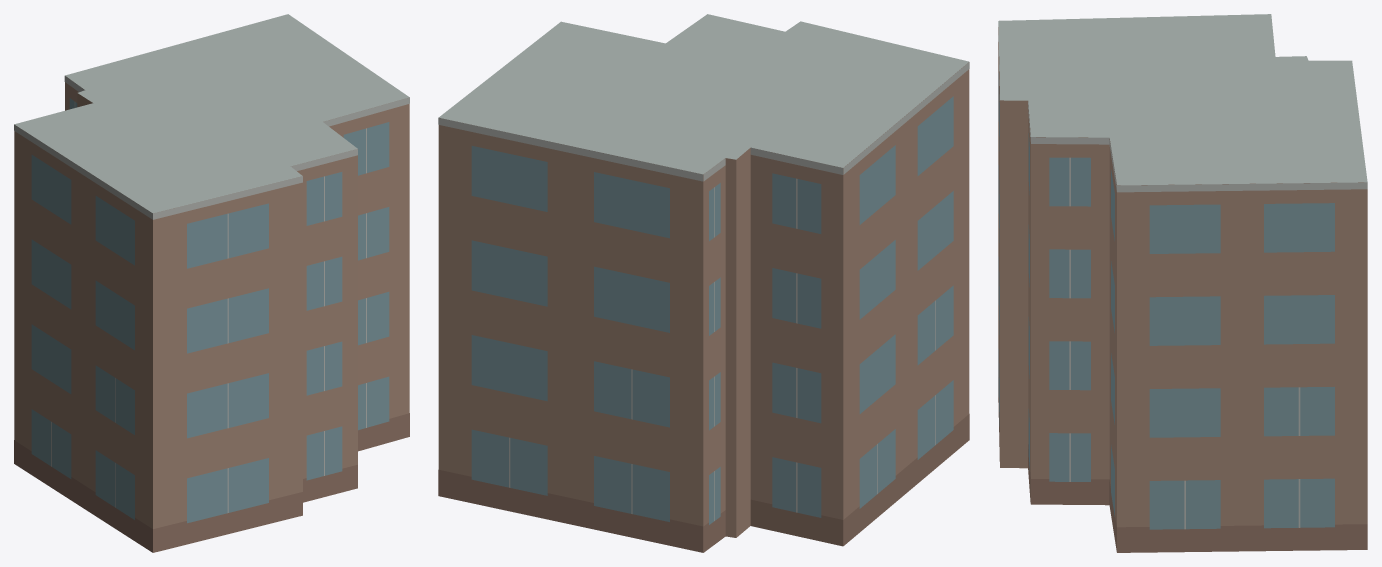
File: survey-upis-32665381.glb
3 views of the same model, side by side, from view 1: azimuth 30°, elevation 25°; view 2: azimuth 150°, elevation 25°; view 3: azimuth 270°, elevation 25° (orthographic). The views are drawn at different scales.
Visible parts, largest first — view 1: survey-upis-32665381.tmp; view 2: survey-upis-32665381.tmp; view 3: survey-upis-32665381.tmp.
Boxes of the visible parts, left/top/right/bottom form: survey-upis-32665381.tmp: left=14, top=14, right=409, bottom=552; survey-upis-32665381.tmp: left=438, top=14, right=969, bottom=552; survey-upis-32665381.tmp: left=998, top=14, right=1367, bottom=552.
Size of the model in its own units: 12.91 by 12.9 by 11.76.
